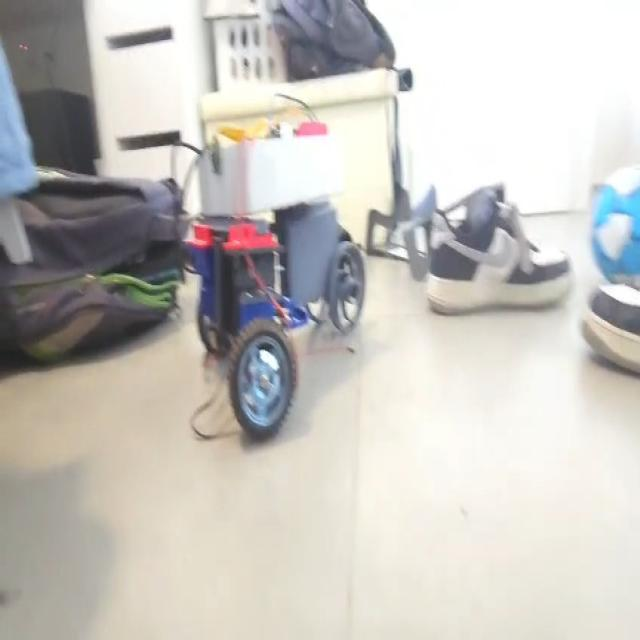Robot: (182, 117, 365, 439)
